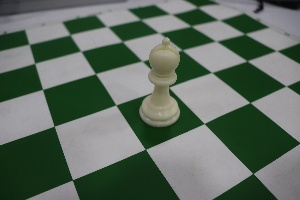white_bishop: (132, 27, 185, 139)
